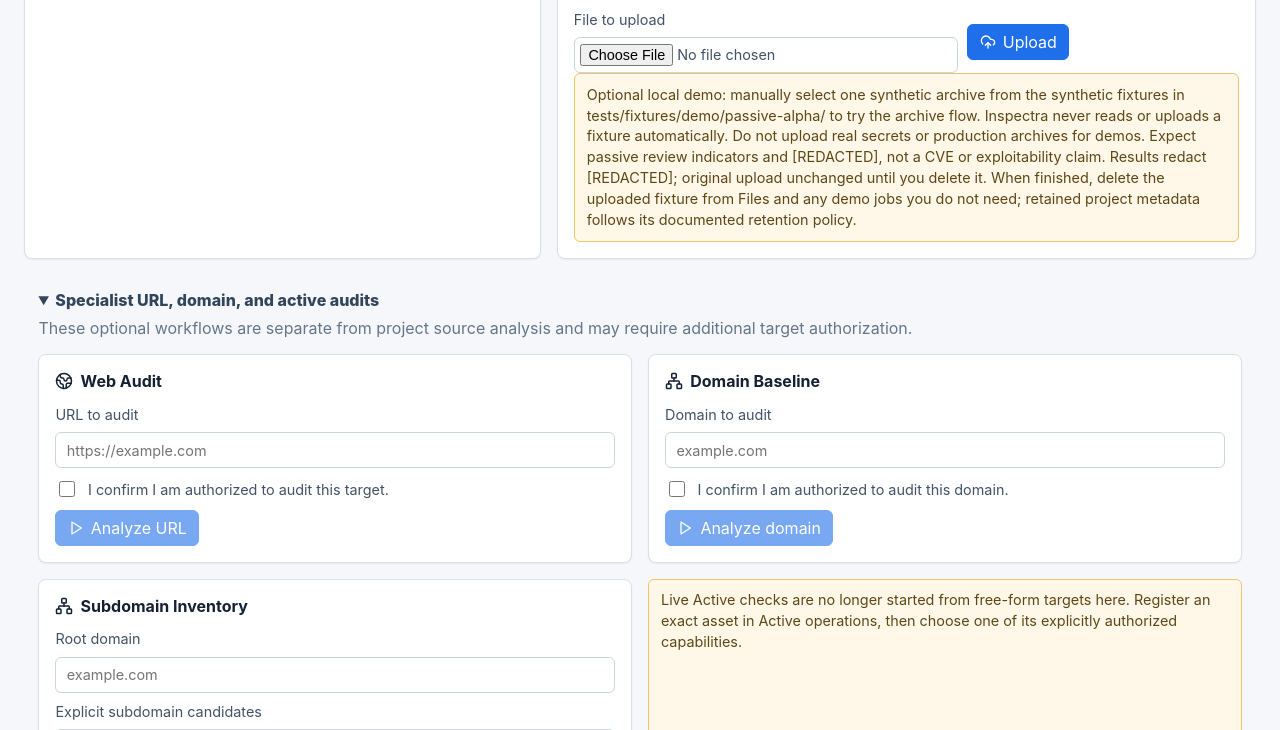
Scenario: App › warns when the web audit URL contains sensitive query parameters
(page scrolled)
Step 1. Type "https://example.test/callback?token=supersecret&page=1" into the field with placeholder "https://example.com" → (335, 450), box [55,432,615,468]
(page scrolled)
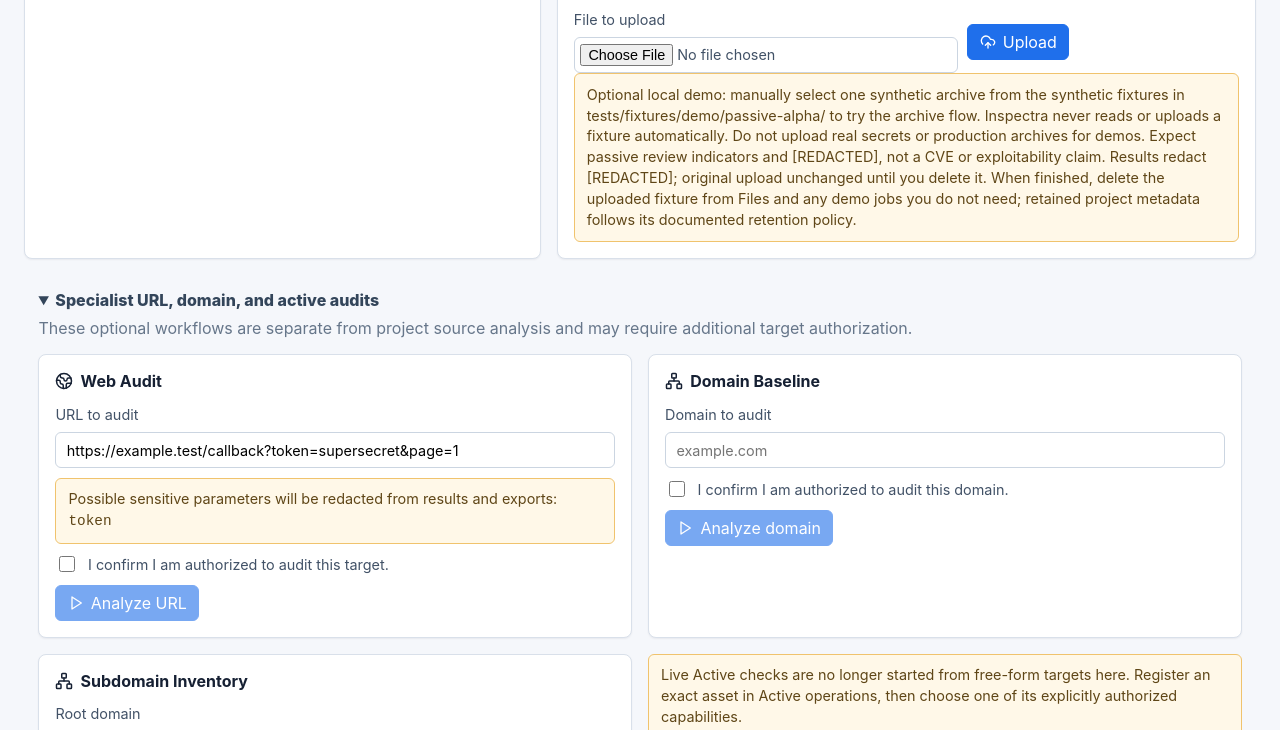
Check: the text "Possible sensitive parameters will be redacted from results and exports: token" is shown, box [55,478,615,544]
Check: the text "token" is shown, box [68,513,112,529]
